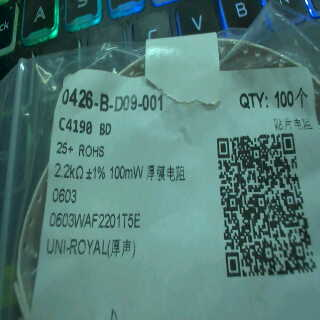2.2kR: (52, 160, 88, 180)
